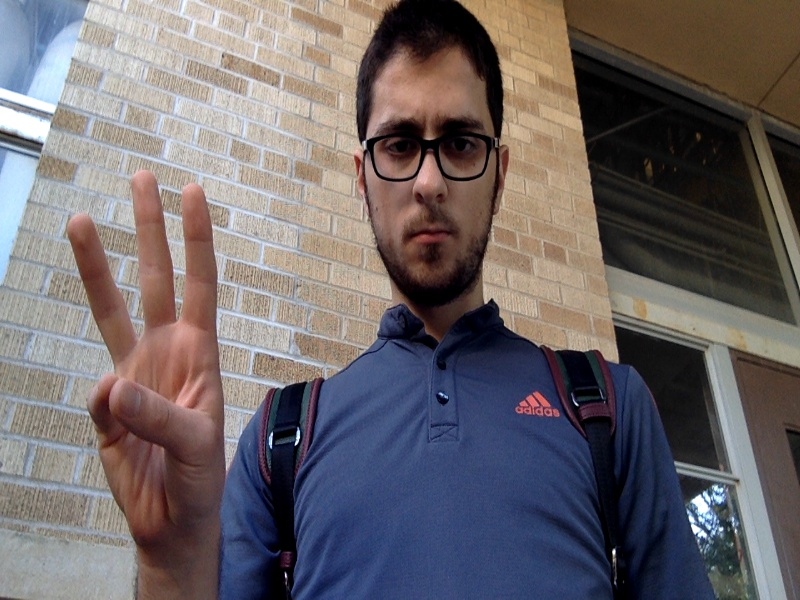3-hand: (67, 171, 224, 541)
